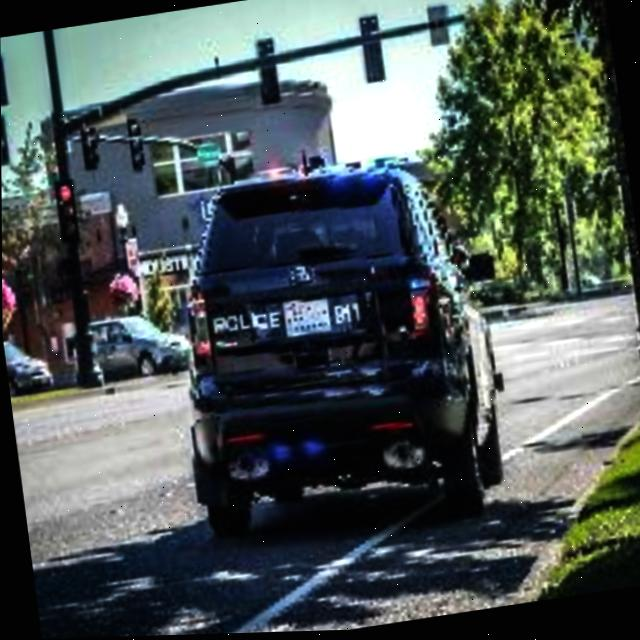emergency: (138, 115, 549, 560)
